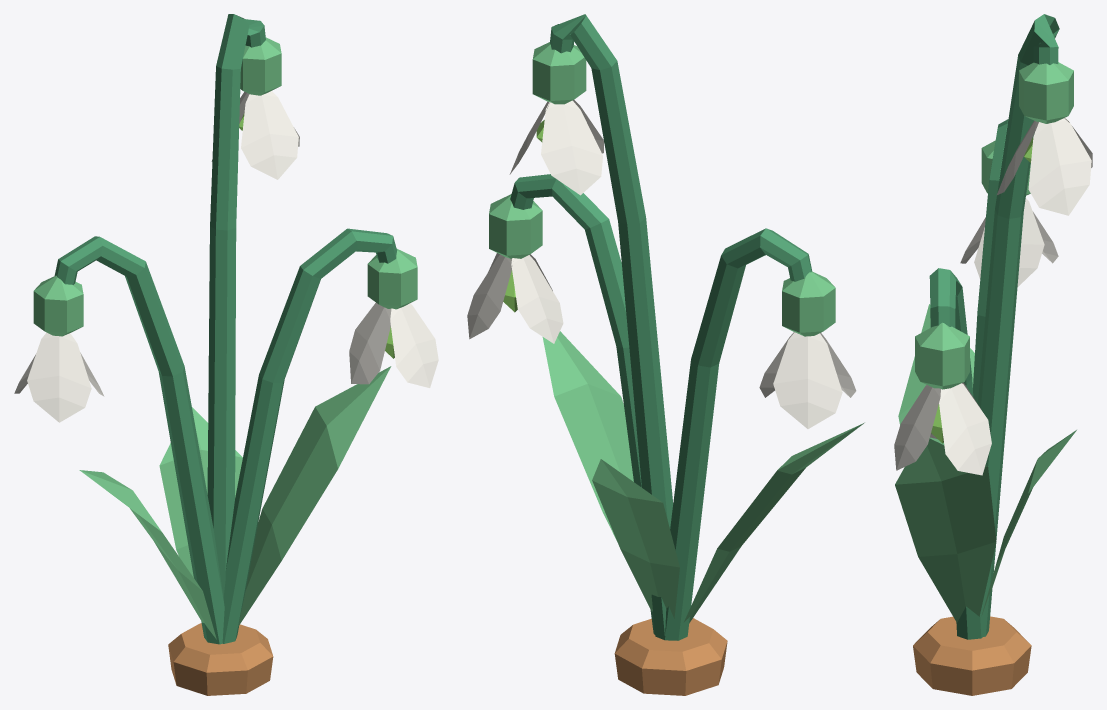
The model's file is 22-snowdrop.glb.
3 views of the same model, side by side, from view 1: azimuth 30°, elevation 25°; view 2: azimuth 150°, elevation 25°; view 3: azimuth 270°, elevation 25° (orthographic). The views are drawn at different scales.
Parts seen in each view (by area): view 1: 22-snowdrop_Body; view 2: 22-snowdrop_Body; view 3: 22-snowdrop_Body.
Part boxes in pixels (x1,y1,x2,y2): 22-snowdrop_Body: (14,14,438,695); 22-snowdrop_Body: (467,14,864,695); 22-snowdrop_Body: (894,14,1092,695).
Bounding box in the file's own units: 0.2649 × 0.42 × 0.1107.
1 material, 1 textured.
